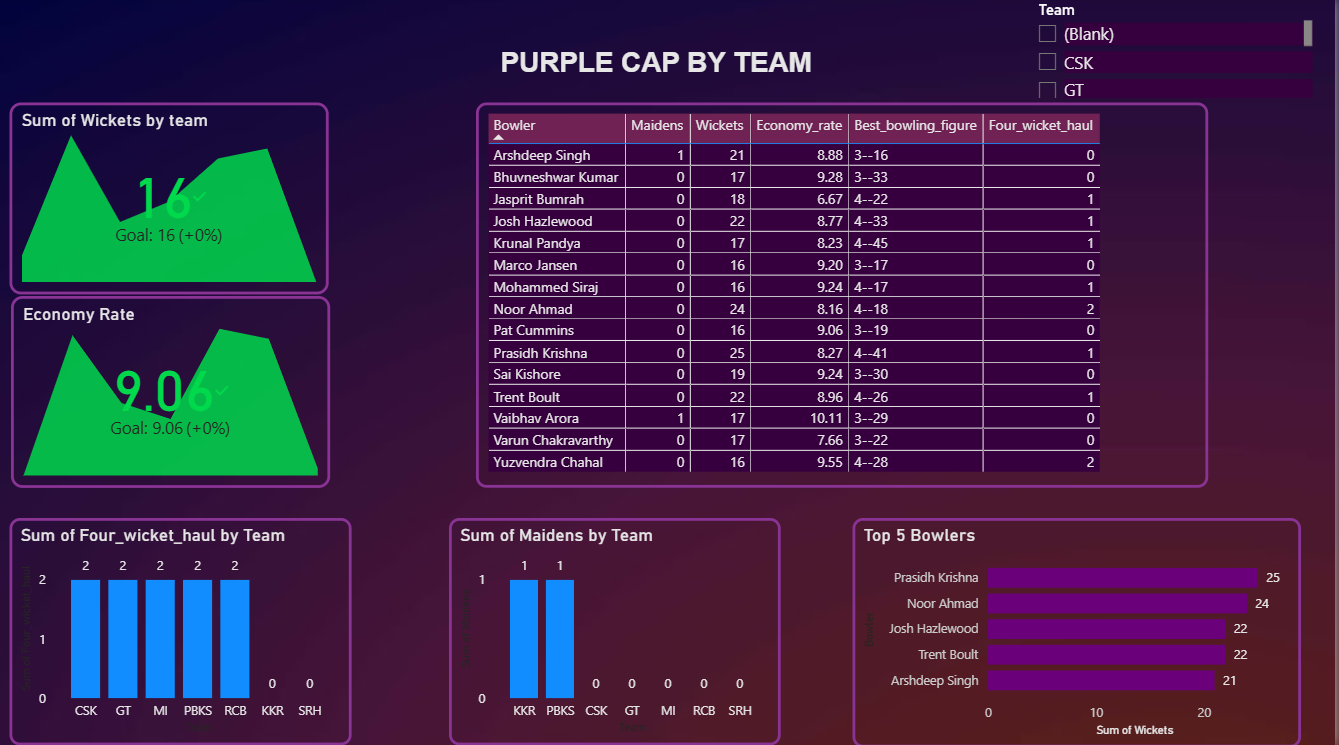

This screenshot's page, from the dashboard's own definition file:
{"tool":"powerbi","page":{"name":"Page 4","canvas":[1280,720],"ordinal":3},"visuals":[{"type":"clusteredBarChart","title":"Top 5 Bowlers","fields":{"Category":["purple_cap3.Bowler"],"Y":["purple_cap3.Wickets"]},"box":[818,500,430,220],"z":0},{"type":"slicer","fields":{"Values":["purple_cap3.Team"]},"box":[984,0,280,102],"z":1000},{"type":"columnChart","fields":{"Category":["purple_cap3.Team"],"Y":["purple_cap3.Four_wicket_haul"]},"box":[10,500,328,218],"z":2000},{"type":"tableEx","fields":{"Values":["purple_cap3.Bowler","purple_cap3.Maidens","purple_cap3.Wickets","purple_cap3.Economy_rate","purple_cap3.Best_bowling_figure","purple_cap3.Four_wicket_haul"]},"box":[457.3,102.1,701.8,369.6],"z":3000},{"type":"textbox","box":[408.2,43.5,425.2,58.6],"z":4000},{"type":"kpi","title":"Sum of Wickets by team","fields":{"Indicator":["purple_cap3.Wickets"],"TrendLine":["purple_cap3.Team"],"Goal":["purple_cap3.Wickets"]},"box":[10,102,306,184],"z":5000},{"type":"kpi","title":"Economy Rate","fields":{"TrendLine":["purple_cap3.Team"],"Indicator":["purple_cap3.Economy_rate"],"Goal":["purple_cap3.Economy_rate"]},"box":[12,288,306,184],"z":6000},{"type":"columnChart","fields":{"Category":["purple_cap3.Team"],"Y":["purple_cap3.Maidens"]},"box":[432,500,318,218],"z":7000}]}

Visuals, with their boxes in screenshot pixels (x1, y1, x2, y2), scaled from the page's 1280x720 canvas onto the 1339x745 screenshot:
"Top 5 Bowlers" clusteredBarChart: <box>856,517,1306,744</box>
slicer - purple_cap3.Team: <box>1029,0,1322,106</box>
columnChart - purple_cap3.Team x purple_cap3.Four_wicket_haul: <box>10,517,354,743</box>
tableEx - purple_cap3.Bowler x purple_cap3.Maidens: <box>478,106,1213,488</box>
textbox: <box>427,45,872,106</box>
"Sum of Wickets by team" kpi: <box>10,106,331,296</box>
"Economy Rate" kpi: <box>13,298,333,488</box>
columnChart - purple_cap3.Team x purple_cap3.Maidens: <box>452,517,785,743</box>
